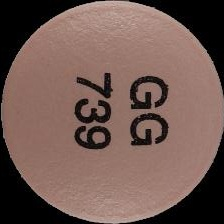0781-1789: (0, 0, 224, 224)
